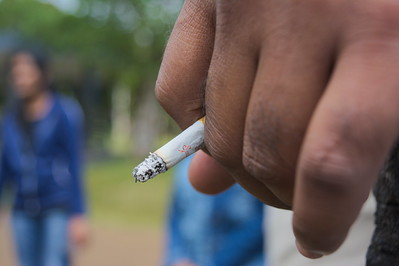cigarette: (129, 112, 209, 187)
